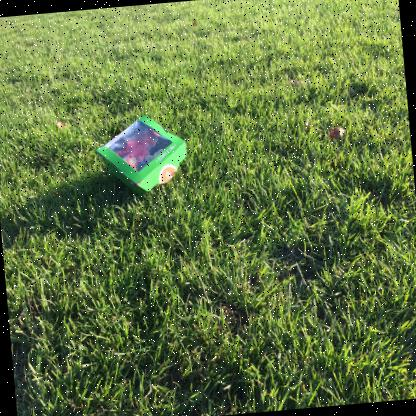Meal carton: (96, 115, 187, 197)
Plastic film: (104, 120, 172, 172)
